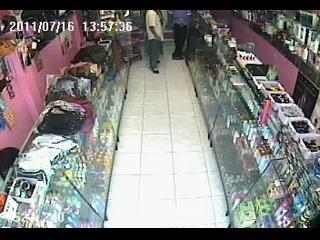Normal: (145, 10, 164, 74), (170, 10, 192, 60)
